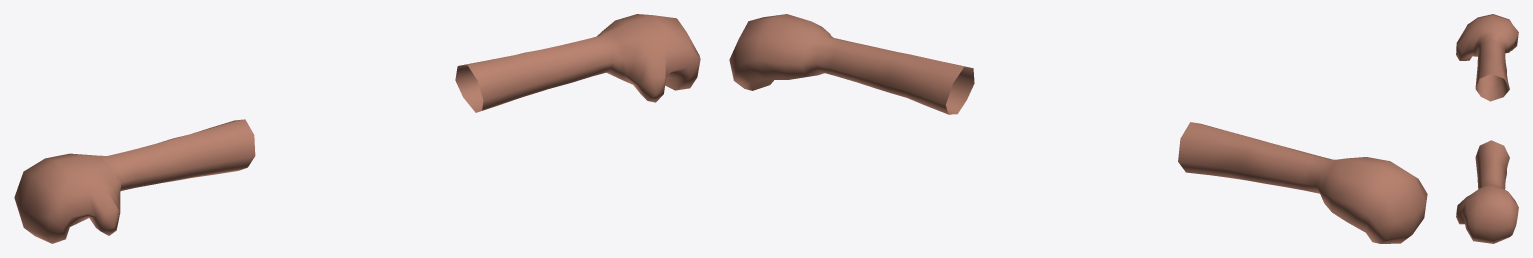
Rendered from Body_Brown_ArmA_1.fbx.
The picture shows the model from 3 angles, left to right: view 1: azimuth 30°, elevation 25°; view 2: azimuth 150°, elevation 25°; view 3: azimuth 270°, elevation 25°; orthographic projection. The views are drawn at different scales.
Parts seen in each view (by area): view 1: Body_Brown_ArmA_1; view 2: Body_Brown_ArmA_1; view 3: Body_Brown_ArmA_1.
Part boxes in pixels (x1,y1,x2,y2): Body_Brown_ArmA_1: [14, 14, 700, 243]; Body_Brown_ArmA_1: [729, 14, 1427, 243]; Body_Brown_ArmA_1: [1456, 14, 1518, 243].
Size of the model in its own units: 130 by 13.15 by 17.22.
